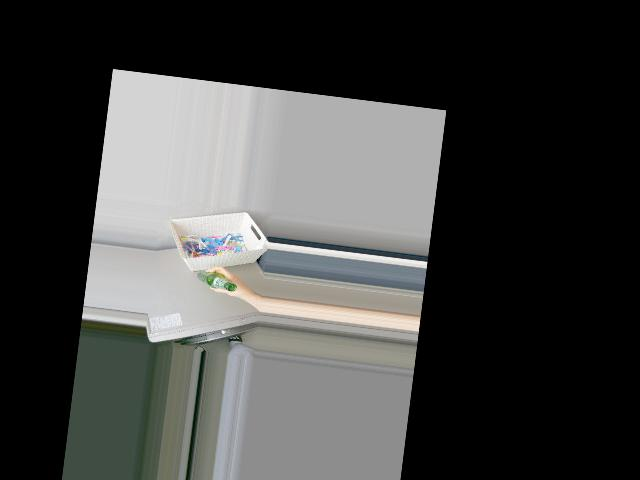beer: (196, 268, 238, 292)
